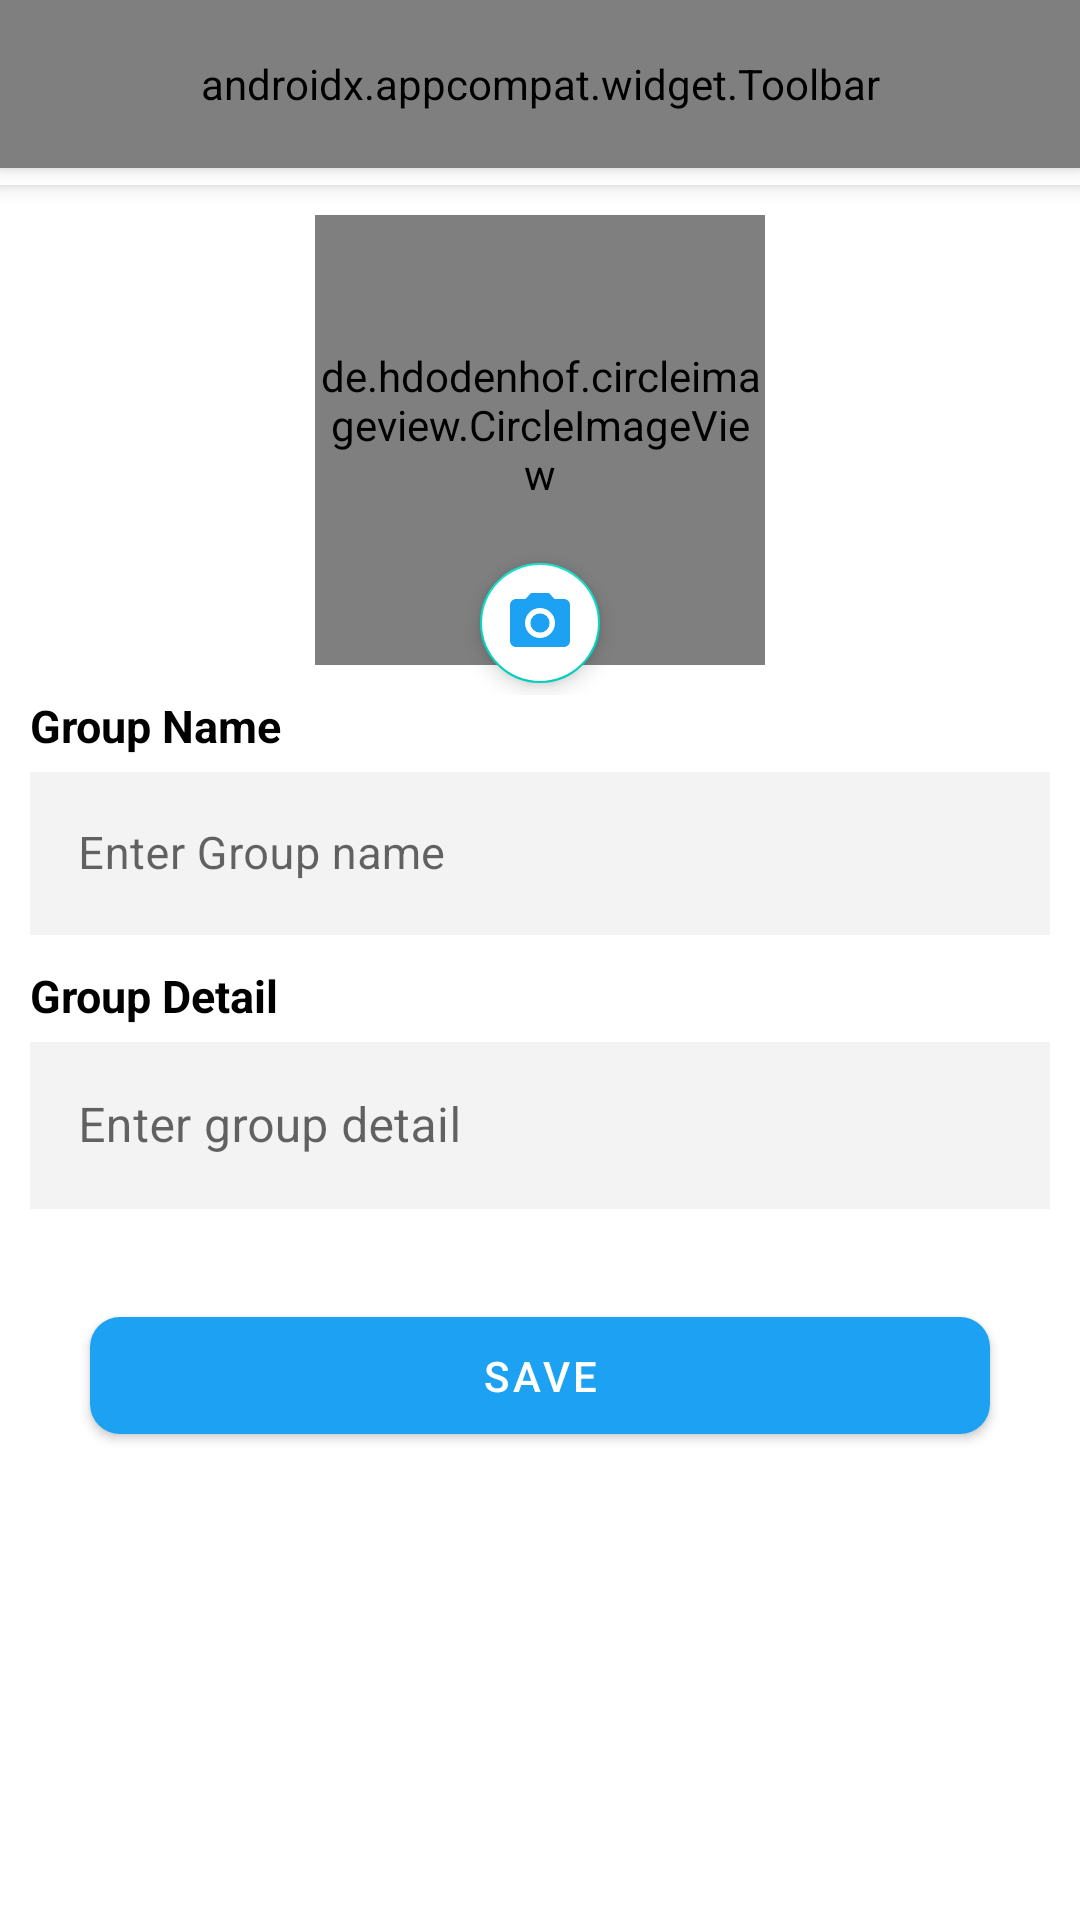

Named icons in this screenshot (1080*1920) and their centers, (x=x, y=y):
camera: (x=540, y=629)
